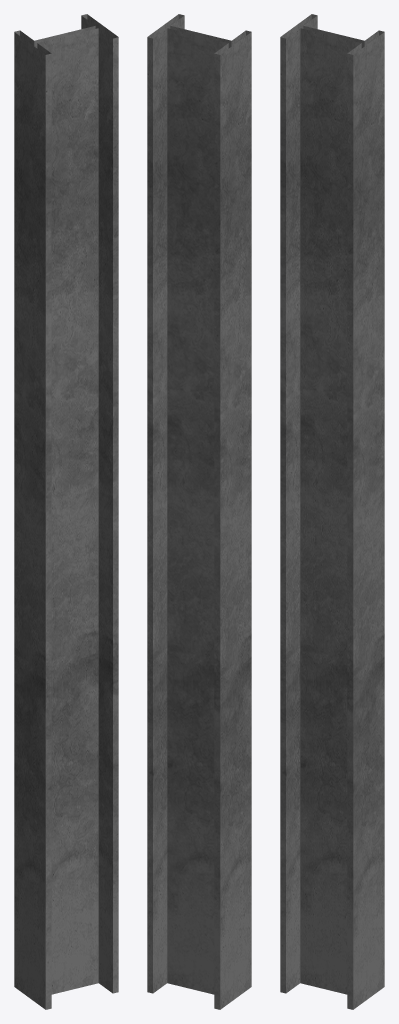
Rendered from Steel Column 5m.fbx.
3 renders of one model, left to right at view 1: azimuth 30°, elevation 25°; view 2: azimuth 150°, elevation 25°; view 3: azimuth 330°, elevation 25°, orthographic.
Visible parts, largest first — view 1: Steel Column; view 2: Steel Column; view 3: Steel Column.
Part boxes in pixels (<box>): Steel Column: <box>14,14,118,1009</box>; Steel Column: <box>147,14,251,1009</box>; Steel Column: <box>280,14,384,1009</box>.
Size of the model in its own units: 80 by 1000 by 60.
